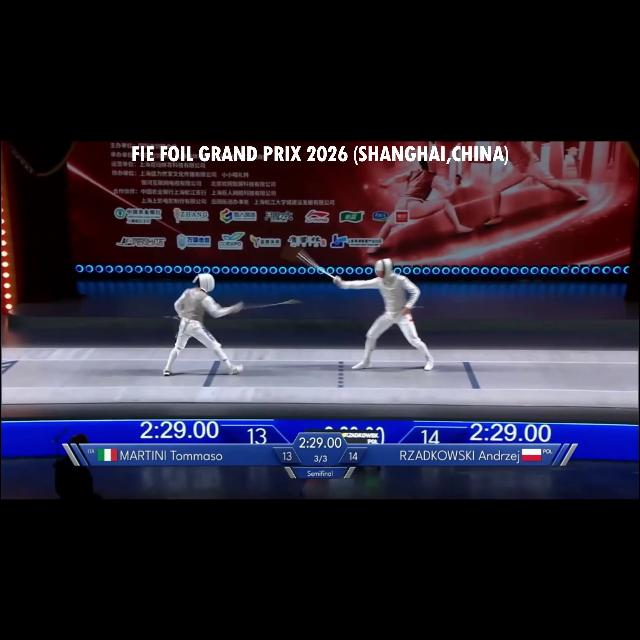blade: (294, 248, 342, 286), (233, 296, 300, 314)
